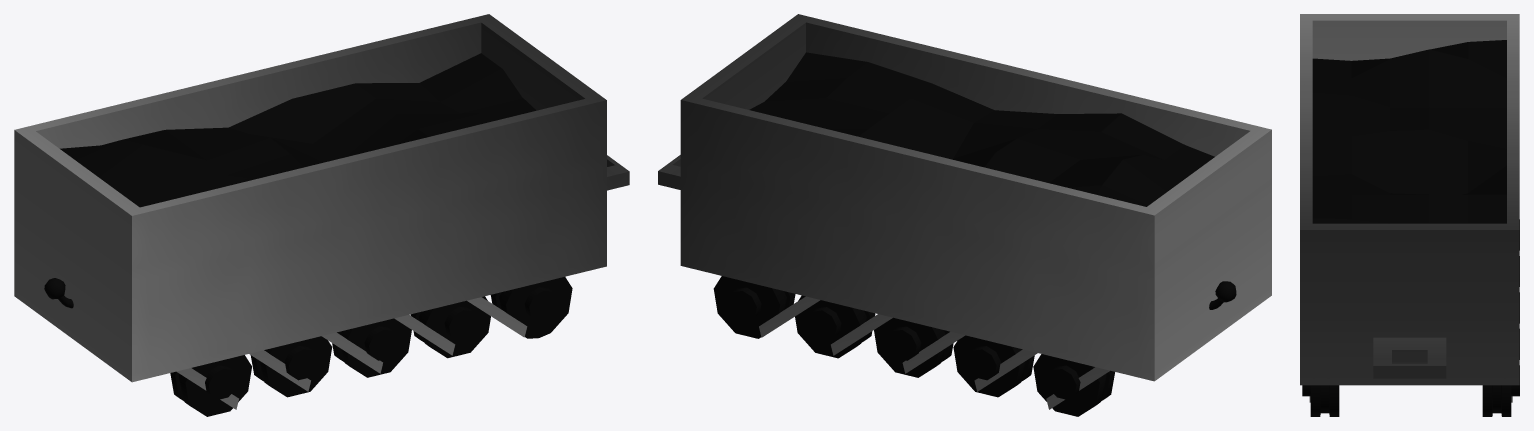
Rendered from Train_01.fbx.
The picture shows the model from 3 angles, left to right: view 1: azimuth 30°, elevation 25°; view 2: azimuth 150°, elevation 25°; view 3: azimuth 270°, elevation 25°; orthographic projection. The views are drawn at different scales.
Parts seen in each view (by area): view 1: Train_01; view 2: Train_01; view 3: Train_01.
Part boxes in pixels (box(x1,y1,x2,y2)): Train_01: box(14, 14, 629, 416); Train_01: box(658, 14, 1271, 416); Train_01: box(1300, 14, 1519, 416).
Size of the model in its own units: 791 by 307 by 288.
1 material, 1 textured.
